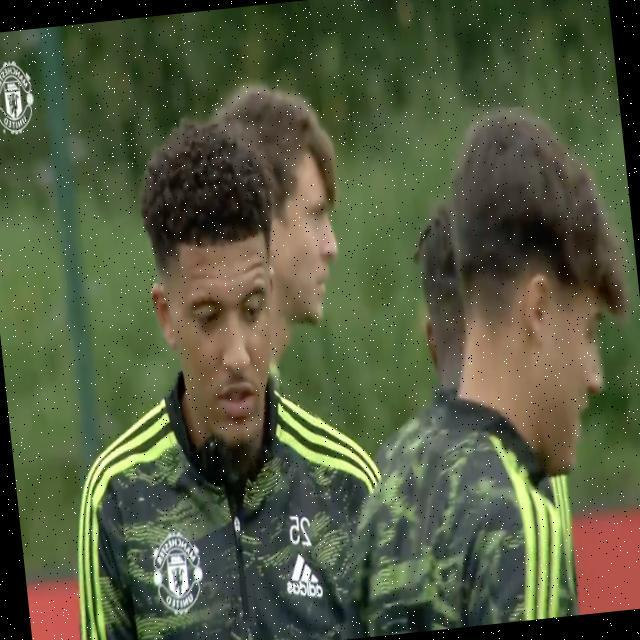Adidas: (282, 550, 325, 601)
